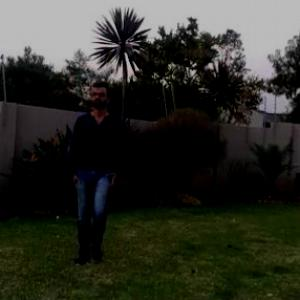follow: (61, 70, 129, 276)
